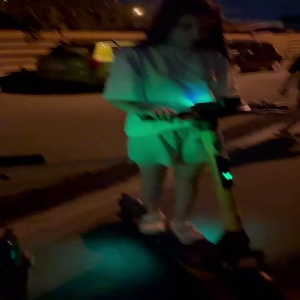human on a scooter: (87, 1, 280, 296)
